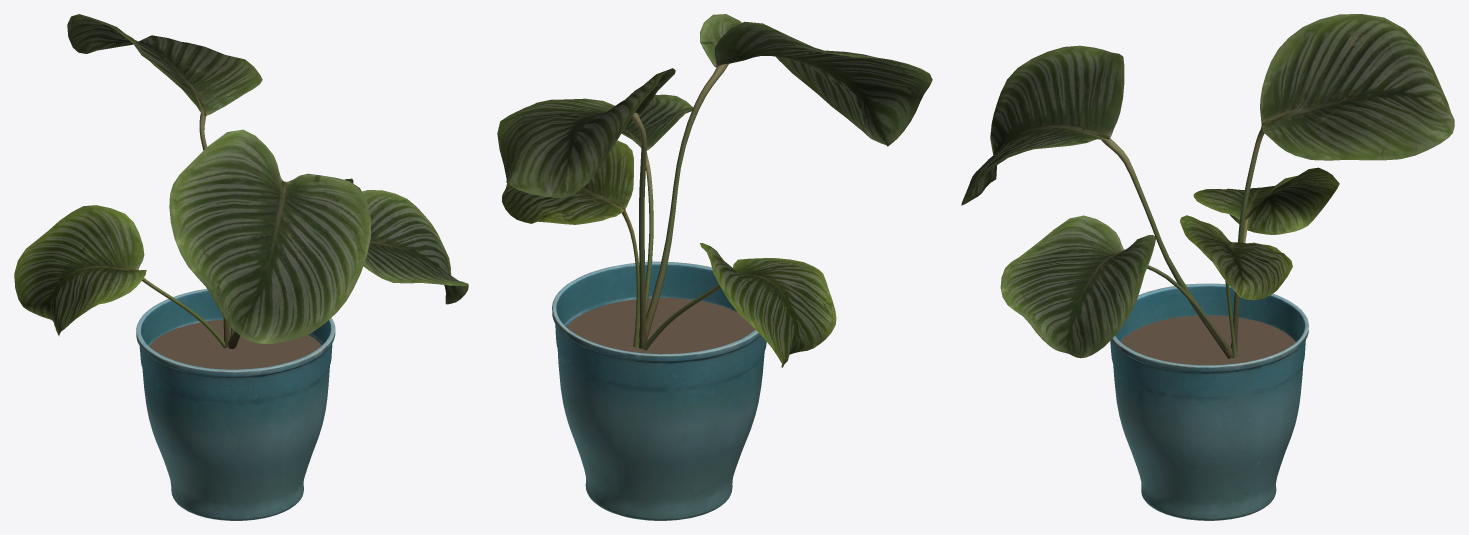
Rendered from ph-calathea-small.glb.
3 views of the same model, side by side, from view 1: azimuth 30°, elevation 25°; view 2: azimuth 150°, elevation 25°; view 3: azimuth 270°, elevation 25° (orthographic). The views are drawn at different scales.
Visible parts, largest first — view 1: calathea_orbifolia_01_b, Ecoforms_Pot_Nova_6_Turquoise, soil; view 2: calathea_orbifolia_01_b, Ecoforms_Pot_Nova_6_Turquoise, soil; view 3: calathea_orbifolia_01_b, Ecoforms_Pot_Nova_6_Turquoise, soil.
Boxes of the visible parts, x1,y1,x2,y2 form: calathea_orbifolia_01_b: (14,14,468,348); Ecoforms_Pot_Nova_6_Turquoise: (136,289,335,520); soil: (149,319,321,369); calathea_orbifolia_01_b: (497,14,932,367); Ecoforms_Pot_Nova_6_Turquoise: (552,261,766,520); soil: (566,298,755,353); calathea_orbifolia_01_b: (961,14,1454,358); Ecoforms_Pot_Nova_6_Turquoise: (1110,283,1308,520); soil: (1120,315,1295,365).
Size of the model in its own units: 0.3474 by 0.4431 by 0.4403.
3 materials, 2 textured.
